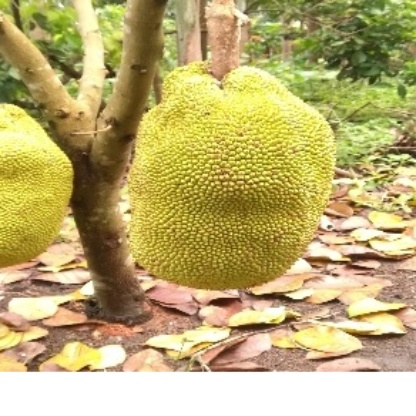mit: (134, 52, 342, 290), (0, 95, 79, 289)
